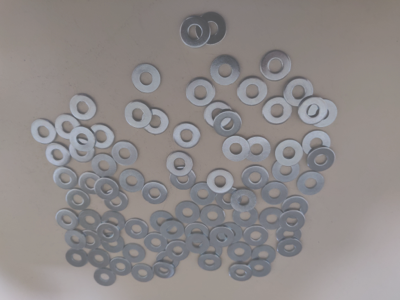circle: (260, 50, 292, 82), (179, 17, 211, 48), (210, 55, 241, 86), (197, 13, 227, 45), (237, 77, 268, 107), (131, 63, 161, 94), (271, 139, 304, 167), (261, 97, 291, 126), (284, 78, 314, 107), (298, 96, 328, 125), (186, 78, 215, 108), (308, 99, 338, 127), (240, 164, 271, 191), (243, 135, 272, 163), (302, 131, 332, 158), (306, 147, 337, 173), (204, 102, 232, 130), (258, 206, 287, 233), (126, 101, 153, 129), (222, 135, 250, 162), (296, 171, 326, 196), (260, 181, 290, 206), (173, 122, 200, 149), (207, 168, 234, 195), (70, 95, 98, 121), (142, 109, 169, 135), (55, 114, 82, 140), (31, 118, 57, 145), (214, 111, 242, 136), (66, 138, 94, 163), (272, 159, 300, 184), (69, 127, 96, 152), (174, 200, 201, 225), (165, 152, 193, 176), (90, 154, 118, 178), (230, 189, 258, 213), (198, 204, 226, 228), (169, 167, 197, 191), (278, 209, 307, 232), (45, 142, 71, 167), (94, 176, 120, 201), (112, 142, 139, 166), (190, 183, 217, 207), (281, 197, 309, 220), (215, 188, 242, 211), (242, 225, 270, 247), (120, 168, 145, 192), (90, 125, 115, 149), (78, 209, 102, 234), (142, 182, 168, 205), (101, 211, 127, 234), (54, 166, 78, 190), (165, 240, 191, 262), (277, 238, 304, 259), (251, 245, 278, 266), (104, 190, 129, 212), (65, 190, 91, 211), (247, 259, 273, 280), (232, 208, 259, 228), (56, 208, 79, 231), (79, 173, 103, 195), (110, 256, 134, 278), (186, 233, 210, 255), (228, 242, 253, 263), (96, 223, 121, 244), (210, 227, 235, 248), (149, 212, 174, 233), (144, 233, 169, 254), (160, 221, 186, 241), (65, 247, 88, 269), (125, 219, 149, 240), (100, 235, 126, 254), (79, 230, 102, 251), (64, 230, 87, 250), (123, 244, 146, 264), (229, 264, 253, 283), (93, 268, 117, 287), (198, 254, 222, 273), (88, 250, 111, 269), (131, 265, 155, 283), (152, 262, 176, 279)
